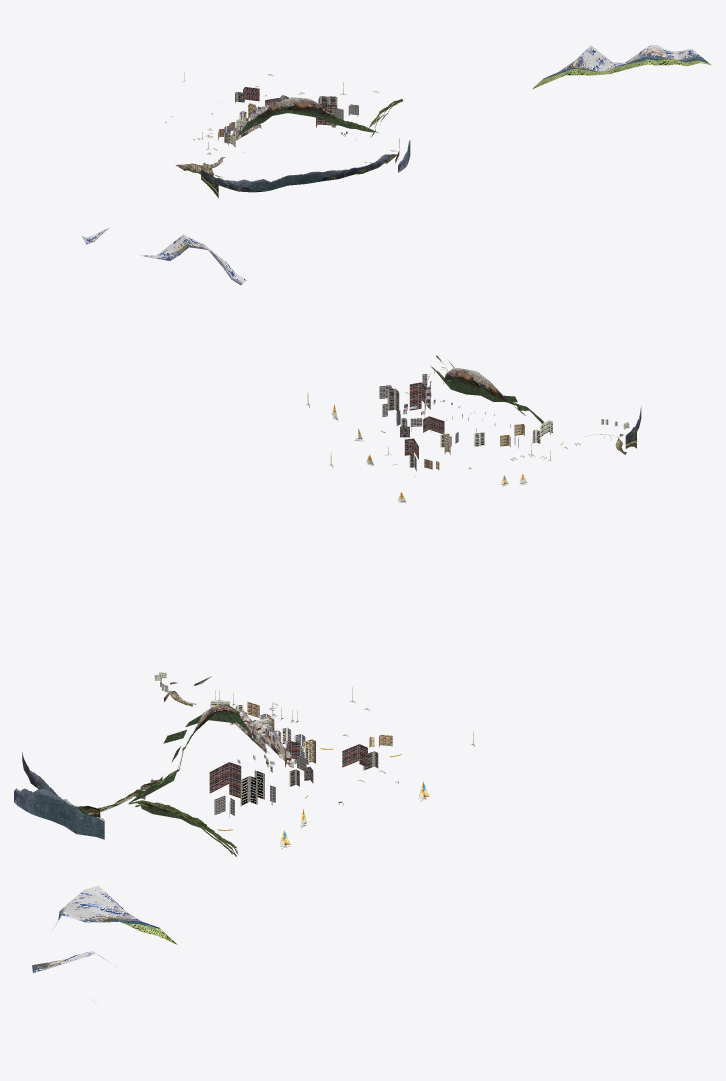
Rendered from track-EU_C3_V2_env.glb.
3 views of the same model, one above another, from view 1: azimuth 30°, elevation 25°; view 2: azimuth 150°, elevation 25°; view 3: azimuth 270°, elevation 25° (orthographic). The views are drawn at different scales.
Visible parts, largest first — view 1: EU_C3_V2_env; view 2: EU_C3_V2_env; view 3: EU_C3_V2_env.
Boxes of the visible parts, x1,y1,x2,y2 form: EU_C3_V2_env: (165,45,711,197); EU_C3_V2_env: (81,227,641,503); EU_C3_V2_env: (14,672,474,1012).
Bounding box in the file's own units: 6207 × 692 × 3853.
Materials: 20 (20 with a texture image).
